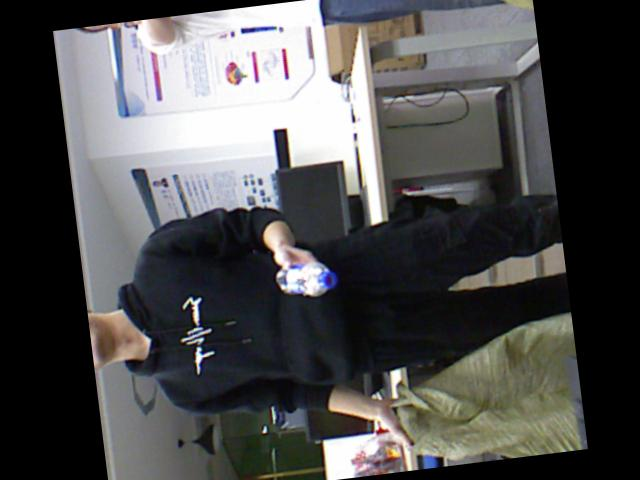cardboard paper: (326, 13, 416, 74)
plastic: (275, 260, 337, 294)
